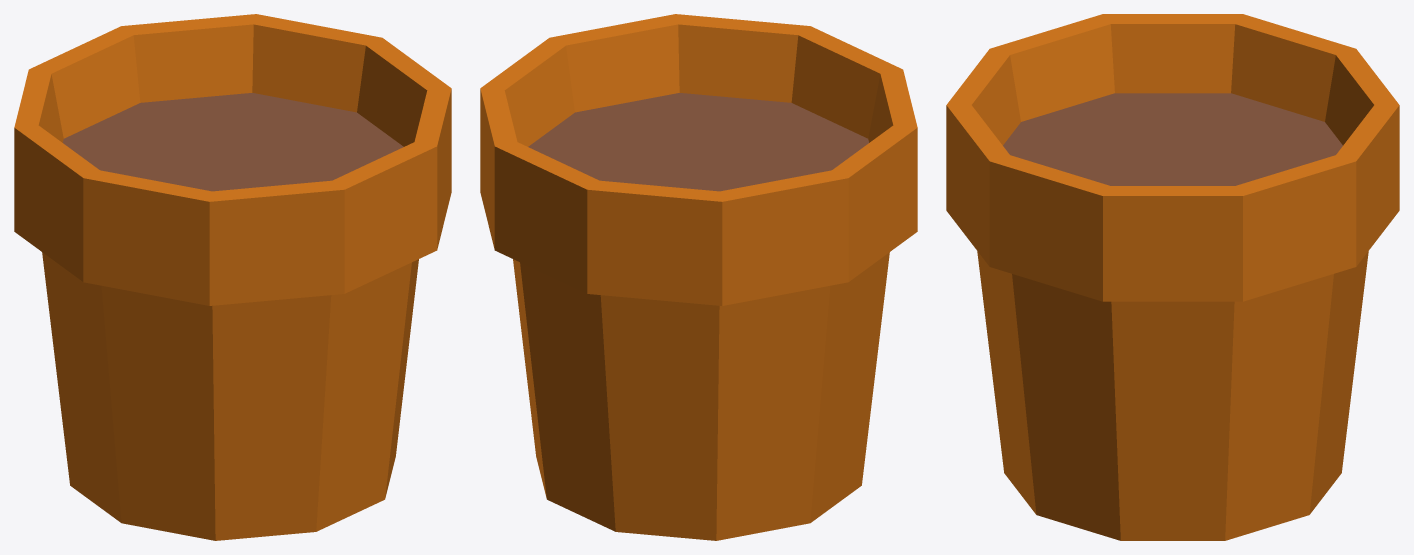
Rendered from flowerpot_filled.fbx.
The picture shows the model from 3 angles, left to right: view 1: azimuth 30°, elevation 25°; view 2: azimuth 150°, elevation 25°; view 3: azimuth 270°, elevation 25°; orthographic projection.
Visible parts, largest first — view 1: flowerpot_filled; view 2: flowerpot_filled; view 3: flowerpot_filled.
Part boxes in pixels (<box>): flowerpot_filled: <box>14,14,451,540</box>; flowerpot_filled: <box>480,14,917,540</box>; flowerpot_filled: <box>946,14,1399,540</box>.
Bounding box in the file's own units: 214 × 202 × 225.
